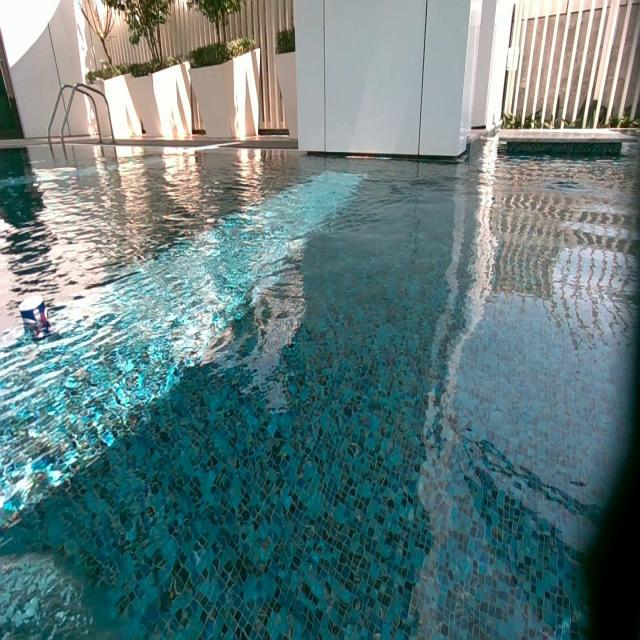Cans: (19, 294, 48, 324)
